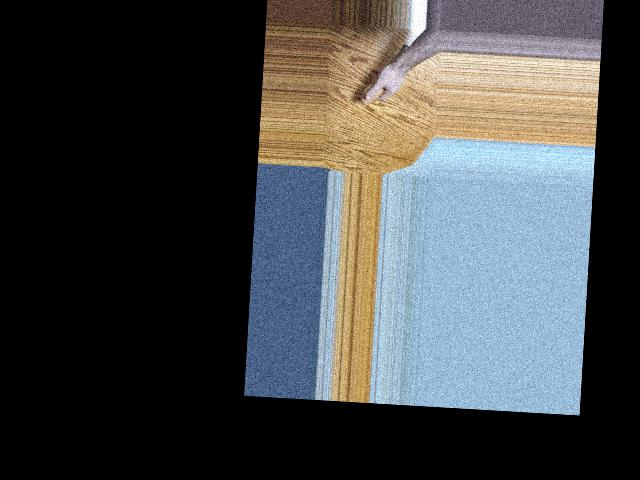sweet_potato: (360, 40, 409, 107)
